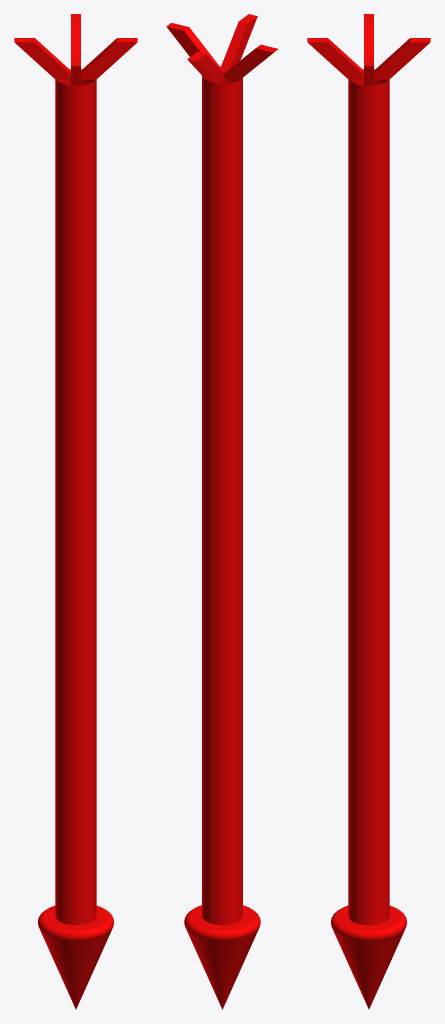
File: arrow.FBX
The picture shows the model from 3 angles, left to right: view 1: azimuth 90°, elevation 25°; view 2: azimuth 150°, elevation 25°; view 3: azimuth 270°, elevation 25°; orthographic projection.
Visible parts, largest first — view 1: arrow (×3); view 2: arrow (×3); view 3: arrow (×3).
Boxes of the visible parts, x1,y1,x2,y2 form: arrow (×3): (14, 14, 137, 1009); arrow (×3): (166, 14, 277, 1009); arrow (×3): (307, 14, 430, 1009).
Size of the model in its own units: 60 by 520 by 60.
